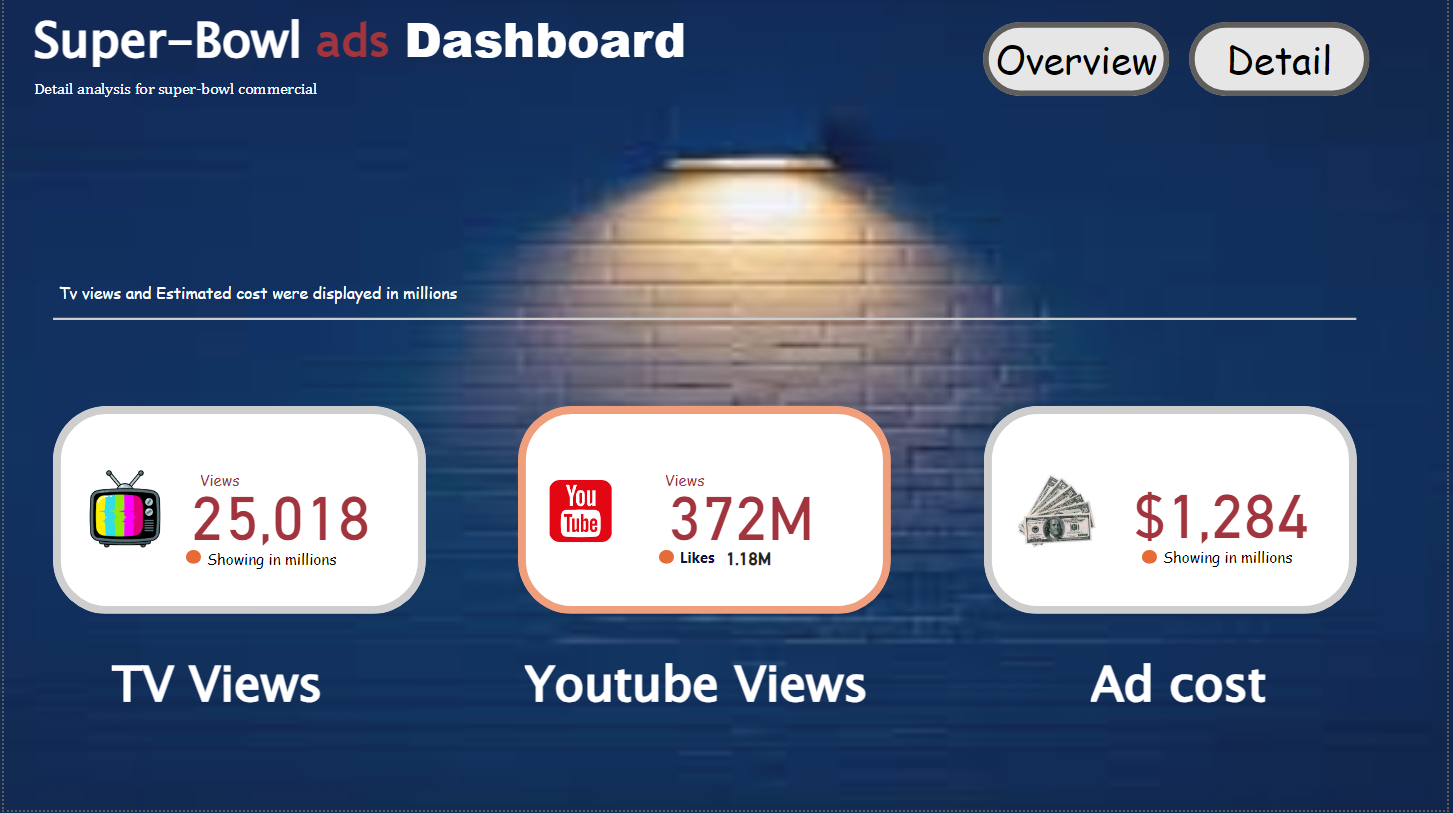

The dashboard page shown, as its layout file describes it:
{"tool":"powerbi","page":{"name":"Overview","canvas":[1280,720],"ordinal":0},"visuals":[{"type":"textbox","box":[21.3,0,657.9,214.6],"z":0},{"type":"actionButton","title":"overview","box":[868.3,21.6,165.3,65.7],"z":0,"group":"g1"},{"type":"actionButton","title":"detail","box":[1051,21.6,160.1,65.7],"z":1000,"group":"g1"},{"type":"shape","box":[456.1,361.8,330.6,184.4],"z":1000},{"type":"shape","box":[868.8,361.8,330.6,184.4],"z":2000},{"type":"shape","box":[43.3,361.8,330.6,184.4],"z":3000},{"type":"image","box":[478.7,380,64.5,149.2],"z":4000},{"type":"image","box":[894,380,78.6,149.2],"z":5000},{"type":"textbox","box":[90.7,571.5,209.6,115.9],"z":6000},{"type":"textbox","box":[456.6,571.5,344.7,115.9],"z":7000},{"type":"textbox","box":[958.5,571.5,209.6,115.9],"z":8000},{"type":"image","box":[62.5,380,89.7,149.2],"z":9000},{"type":"card","fields":{"Values":["Measure Table.Tv views"]},"box":[124,380,241.9,149.2],"z":10000},{"type":"card","fields":{"Values":["DimBrands.Youtube views"]},"box":[533.2,380,241.9,149.2],"z":11000},{"type":"card","fields":{"Values":["Measure Table.Ad cost"]},"box":[958.7,378.8,241.2,148.8],"z":12000},{"type":"shape","box":[43.1,272,1155.8,24.6],"z":13000},{"type":"textbox","box":[43.1,246.4,559.4,99.6],"z":14000},{"type":"shape","box":[581,489.6,13.3,12.3],"z":15000},{"type":"shape","box":[1009,489.6,13.3,12.3],"z":16000},{"type":"shape","box":[161.2,489.6,13.3,12.3],"z":17000},{"type":"textbox","box":[594.3,482,140.7,49.3],"z":18000},{"type":"textbox","box":[580.8,412.3,140.7,49.3],"z":19000},{"type":"textbox","box":[168.3,412.6,140.6,49.3],"z":20000},{"type":"textbox","box":[174.5,482.4,140.6,49.3],"z":21000},{"type":"textbox","box":[1022.4,481,140.6,49.3],"z":22000},{"type":"group","id":"g1","title":"inactive btns","box":[868.3,21.6,342.8,65.7],"z":23000},{"type":"card","fields":{"Values":["Measure Table.Youtube likes"]},"box":[618,480,84.2,35.9],"z":23001}]}

Visuals, with their boxes in screenshot pixels (x1, y1, x2, y2), scaled from the page's 1280x720 canvas onto the 1453x813 screenshot:
textbox: bbox(24, 0, 771, 242)
"overview" actionButton: bbox(986, 24, 1173, 99)
"detail" actionButton: bbox(1193, 24, 1375, 99)
shape: bbox(518, 409, 893, 617)
shape: bbox(986, 409, 1362, 617)
shape: bbox(49, 409, 424, 617)
image: bbox(543, 429, 617, 598)
image: bbox(1015, 429, 1104, 598)
textbox: bbox(103, 645, 341, 776)
textbox: bbox(518, 645, 910, 776)
textbox: bbox(1088, 645, 1326, 776)
image: bbox(71, 429, 173, 598)
card - Measure Table.Tv views: bbox(141, 429, 415, 598)
card - DimBrands.Youtube views: bbox(605, 429, 880, 598)
card - Measure Table.Ad cost: bbox(1088, 428, 1362, 596)
shape: bbox(49, 307, 1361, 335)
textbox: bbox(49, 278, 684, 391)
shape: bbox(660, 553, 675, 567)
shape: bbox(1145, 553, 1160, 567)
shape: bbox(183, 553, 198, 567)
textbox: bbox(675, 544, 834, 600)
textbox: bbox(659, 466, 819, 521)
textbox: bbox(191, 466, 351, 522)
textbox: bbox(198, 545, 358, 600)
textbox: bbox(1161, 543, 1320, 599)
"inactive btns" group: bbox(986, 24, 1375, 99)
card - Measure Table.Youtube likes: bbox(702, 542, 797, 583)
